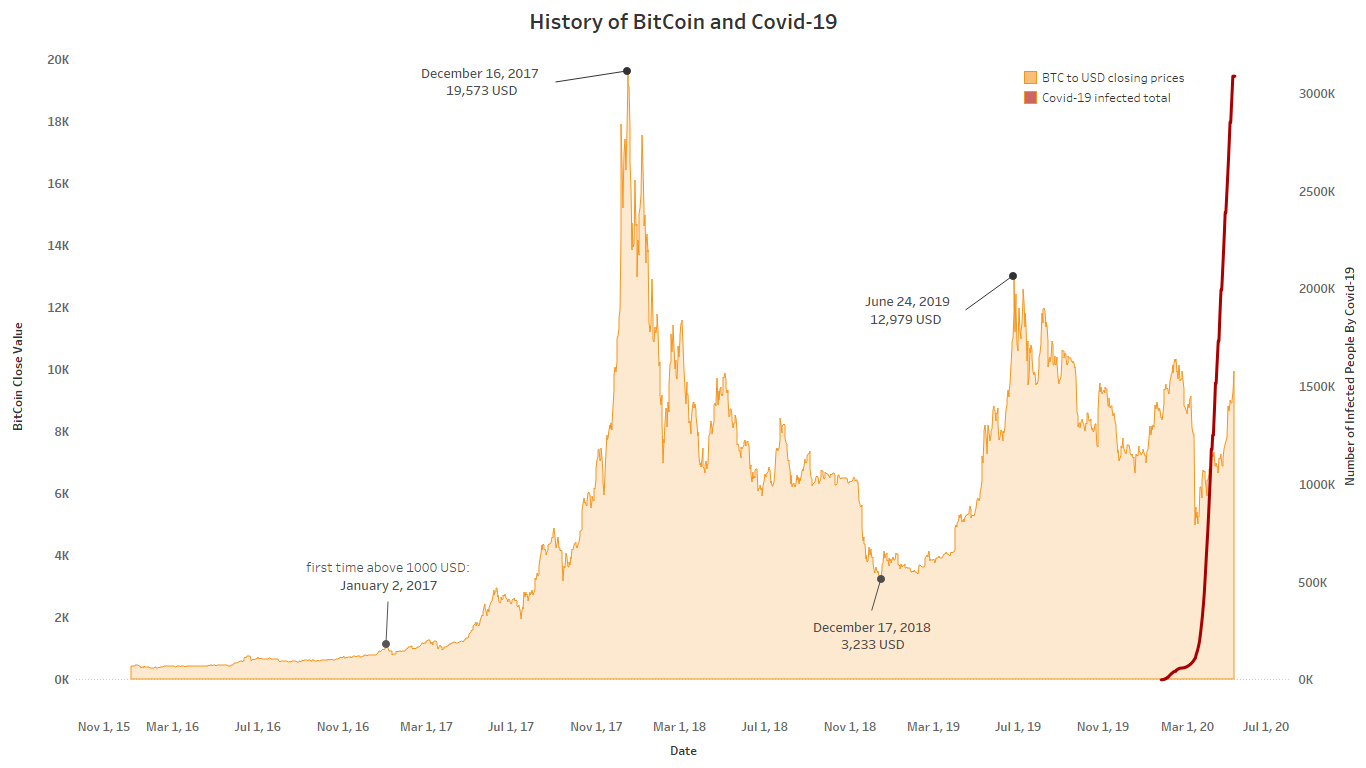

The page's visual inventory and layout, read from the dashboard file:
{"tool":"tableau","page":{"name":"BitcoinHistory","canvas":[1366,768],"ordinal":0},"visuals":[{"type":"worksheet","title":"Recent History of BitCoin","mark":"Line","rows":["Close (BTC-USD.csv)","Daily New Infections (Global)"],"cols":["Date (BTC-USD.csv)"],"box":[2,0,1363,766]},{"type":"text","box":[1138,10,219,38]},{"type":"legend","title":"Recent History of BitCoin","param":"[federated.0rg4kuo0qrrmle1eso1do0pyr2xw].[:Measure Names]","box":[1020,67,188,50]}]}

Visuals, with their boxes in screenshot pixels (x1, y1, x2, y2), scaled from the page's 1366x768 canvas onto the 1366x768 screenshot:
"Recent History of BitCoin" worksheet (Line marks): 2/0/1365/766
text: 1138/10/1357/48
"Recent History of BitCoin" legend: 1020/67/1208/117
